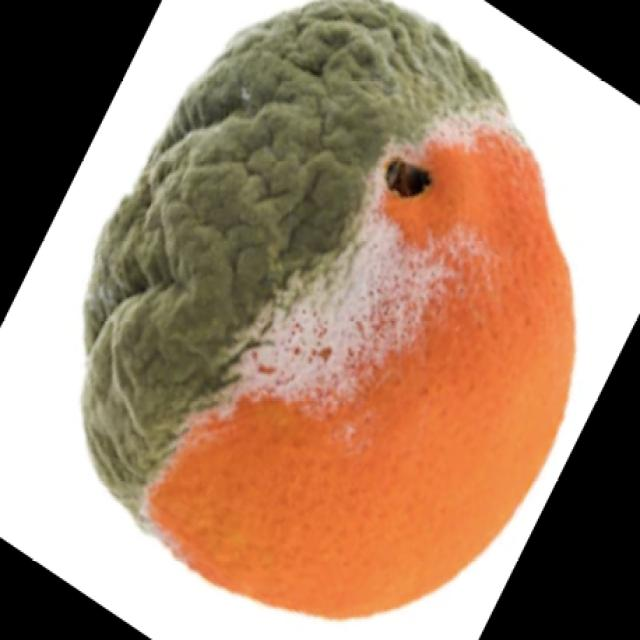sangat_busuk: (89, 8, 577, 616)
